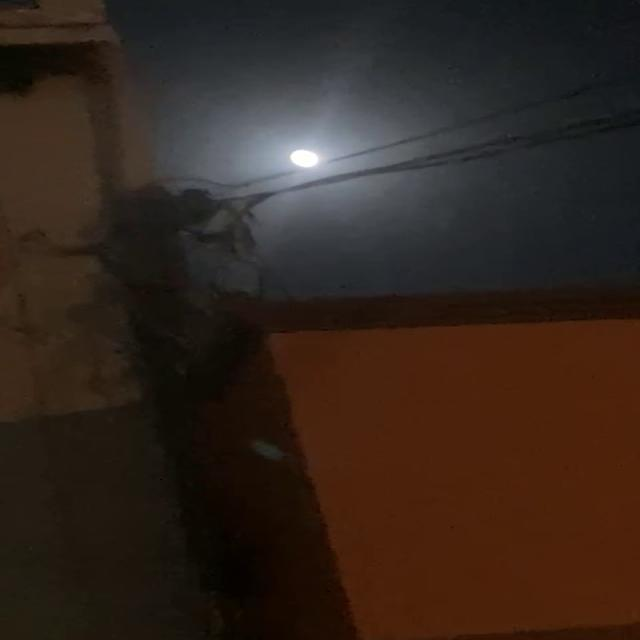moon: (285, 135, 343, 174)
